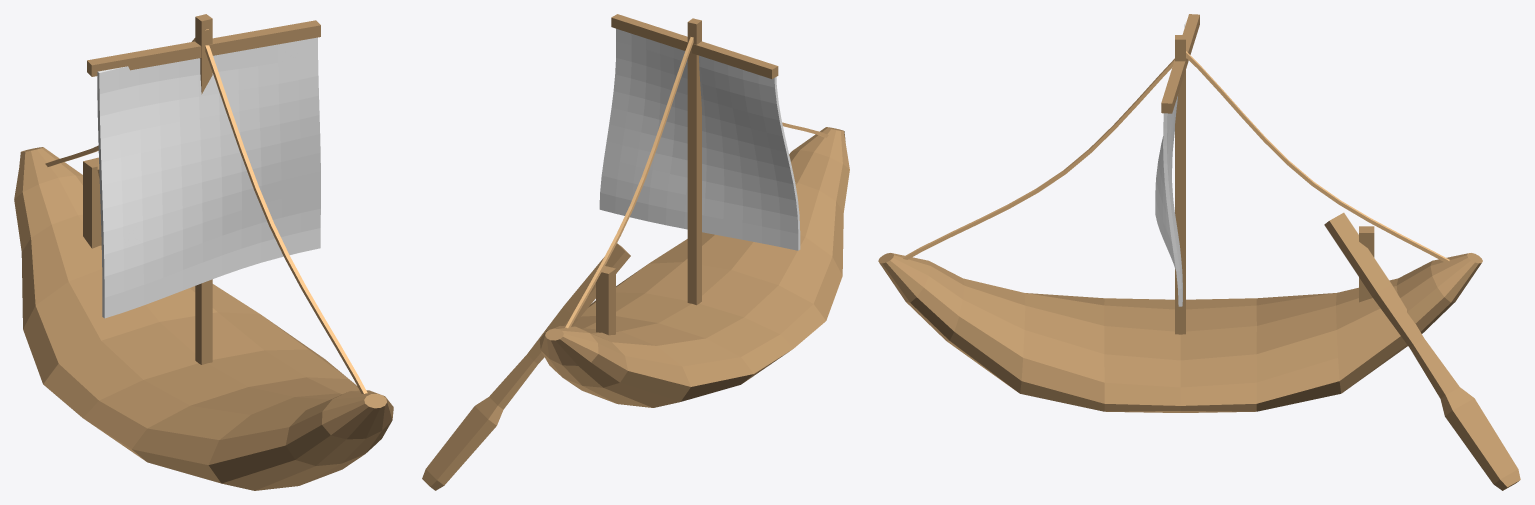
File: BarcoPequeño.fbx
3 views of the same model, side by side, from view 1: azimuth 30°, elevation 25°; view 2: azimuth 150°, elevation 25°; view 3: azimuth 270°, elevation 25° (orthographic). The views are drawn at different scales.
Visible parts, largest first — view 1: Cylinder.003; view 2: Cylinder.003; view 3: Cylinder.003.
Boxes of the visible parts, left/top/right/bottom form: Cylinder.003: left=14, top=14, right=393, bottom=490; Cylinder.003: left=422, top=14, right=849, bottom=490; Cylinder.003: left=878, top=14, right=1520, bottom=490.
Bounding box in the file's own units: 344 × 574 × 845.
